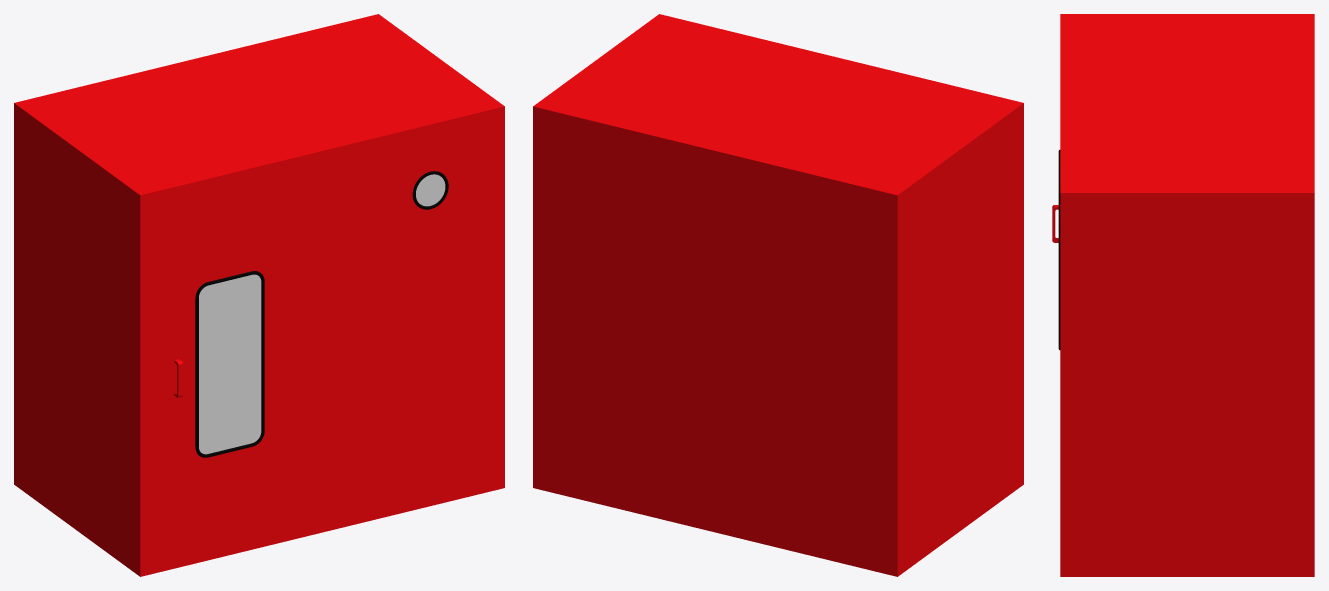
The model's file is HoseReel.fbx.
3 views of the same model, side by side, from view 1: azimuth 30°, elevation 25°; view 2: azimuth 150°, elevation 25°; view 3: azimuth 270°, elevation 25° (orthographic).
Visible parts, largest first — view 1: ReelCabinet, ReelDoor, ReelGlass, ReelGlassFrame, KeyGlass; view 2: ReelCabinet; view 3: ReelCabinet, ReelGlassFrame.
Boxes of the visible parts, <box> form: ReelCabinet: <box>14,14,504,576</box>; ReelDoor: <box>154,124,491,559</box>; ReelGlass: <box>199,274,261,454</box>; ReelGlassFrame: <box>195,271,264,457</box>; KeyGlass: <box>416,174,445,206</box>; ReelCabinet: <box>533,14,1023,576</box>; ReelCabinet: <box>1060,14,1314,576</box>; ReelGlassFrame: <box>1058,150,1060,349</box>.
Bounding box in the file's own units: 50 × 30.96 × 50.
